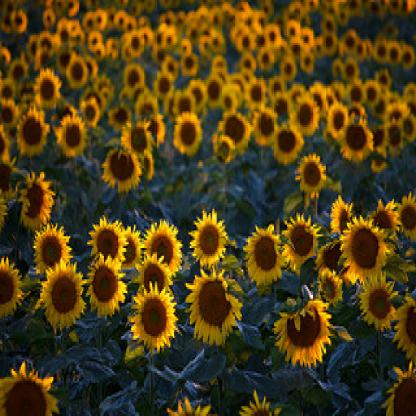SUN FLOWER: (7, 7, 408, 399)
